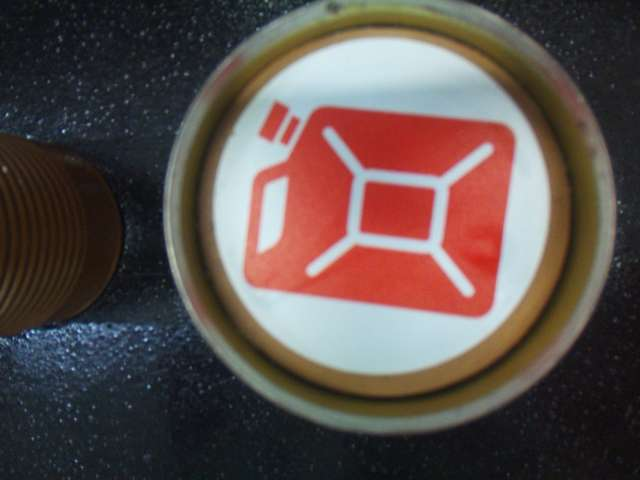gasoline: (238, 91, 528, 325)
